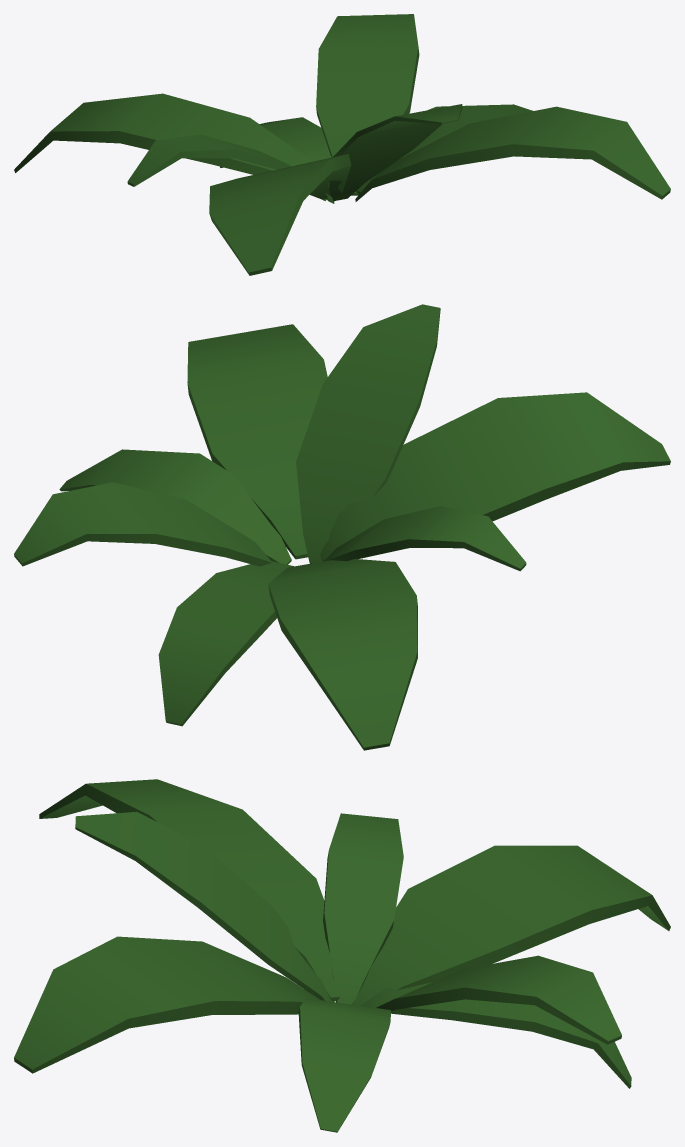
File: Plant_1.fbx
3 views of the same model, one above another, from view 1: azimuth 30°, elevation 25°; view 2: azimuth 150°, elevation 25°; view 3: azimuth 270°, elevation 25° (orthographic). The views are drawn at different scales.
Parts seen in each view (by area): view 1: Plant_1; view 2: Plant_1; view 3: Plant_1.
Boxes of the visible parts, <box> form: Plant_1: <box>14,14,670,275</box>; Plant_1: <box>14,304,670,750</box>; Plant_1: <box>14,779,670,1132</box>.
Bounding box in the file's own units: 195 × 90.8 × 207.
